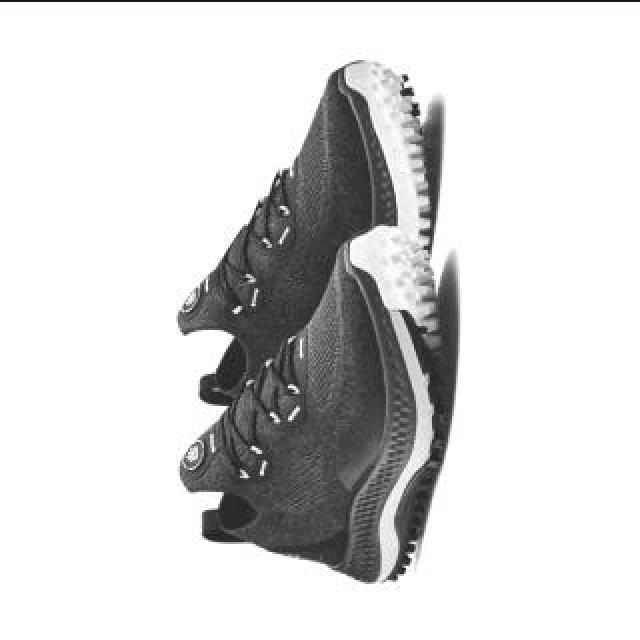shoe: (178, 223, 450, 579), (176, 58, 432, 434)
